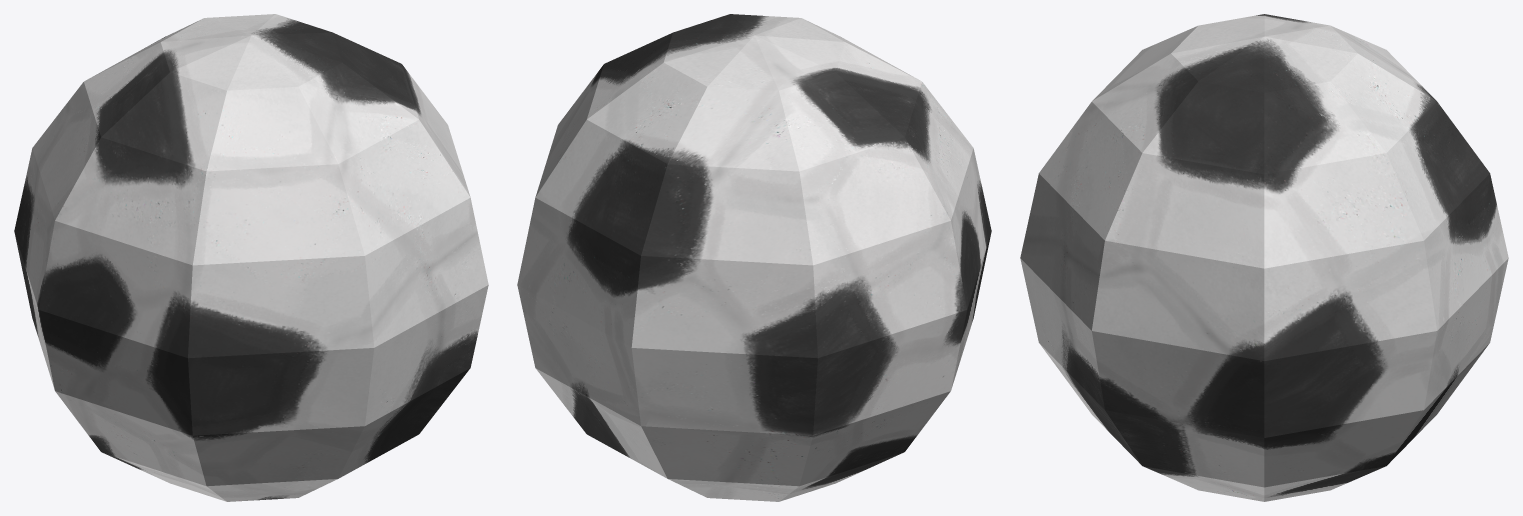
File: Football.obj
The picture shows the model from 3 angles, left to right: view 1: azimuth 30°, elevation 25°; view 2: azimuth 150°, elevation 25°; view 3: azimuth 270°, elevation 25°; orthographic projection.
Parts seen in each view (by area): view 1: UV_Sphere_UV_Sphere; view 2: UV_Sphere_UV_Sphere; view 3: UV_Sphere_UV_Sphere.
Boxes of the visible parts, <box> form: UV_Sphere_UV_Sphere: <box>14,14,488,501</box>; UV_Sphere_UV_Sphere: <box>517,14,991,501</box>; UV_Sphere_UV_Sphere: <box>1020,14,1508,501</box>.
Bounding box in the file's own units: 1 × 1 × 1.
Materials: 1 (1 with a texture image).
